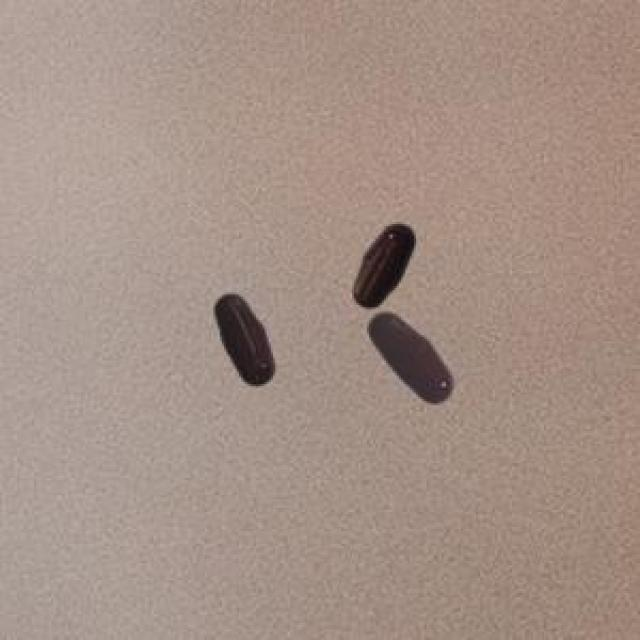DayZinc: (362, 309, 465, 413), (209, 281, 281, 395), (339, 208, 419, 310)
